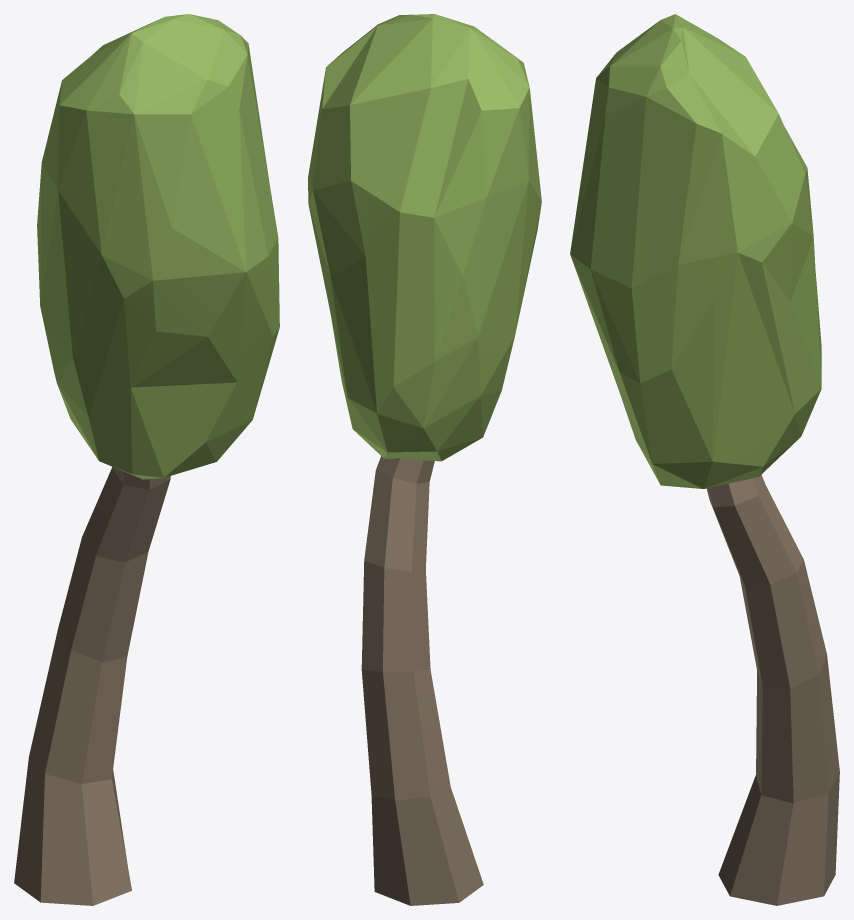
File: Tree5.glb
3 renders of one model, left to right at view 1: azimuth 30°, elevation 25°; view 2: azimuth 150°, elevation 25°; view 3: azimuth 270°, elevation 25°, orthographic. The views are drawn at different scales.
Parts seen in each view (by area): view 1: Tree_0; view 2: Tree_0; view 3: Tree_0.
Boxes of the visible parts, x1=… form: Tree_0: x1=14, y1=14, x2=279, y2=905; Tree_0: x1=308, y1=14, x2=541, y2=905; Tree_0: x1=570, y1=14, x2=839, y2=905.
Bounding box in the file's own units: 0.8068 × 3.23 × 0.905.
1 material, 1 textured.
